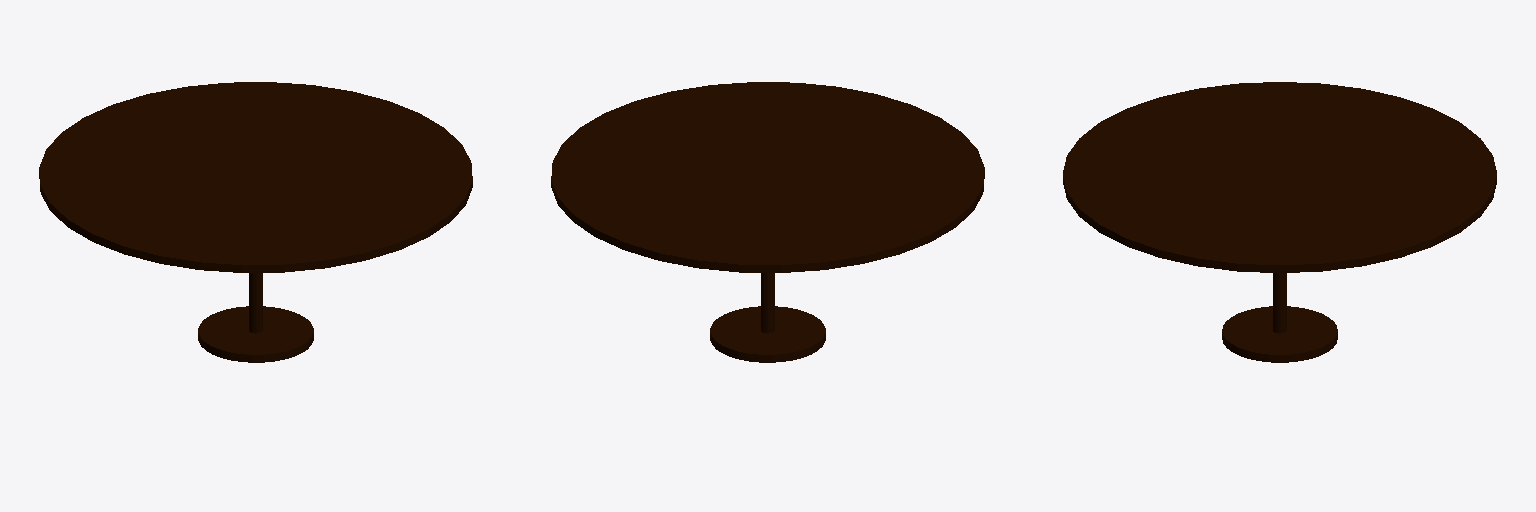
The model's file is roundTable.obj.
The picture shows the model from 3 angles: view 1: azimuth 30°, elevation 25°; view 2: azimuth 150°, elevation 25°; view 3: azimuth 270°, elevation 25°; orthographic projection.
Parts seen in each view (by area): view 1: Circle, Circle.001, Cylinder; view 2: Circle, Circle.001, Cylinder; view 3: Circle, Circle.001, Cylinder.
Boxes of the visible parts, <box> form: Circle: <box>39,82,472,272</box>; Circle.001: <box>198,306,313,362</box>; Cylinder: <box>249,273,262,333</box>; Circle: <box>551,82,984,272</box>; Circle.001: <box>710,306,825,362</box>; Cylinder: <box>761,273,774,333</box>; Circle: <box>1063,82,1496,272</box>; Circle.001: <box>1222,306,1337,362</box>; Cylinder: <box>1273,273,1286,333</box>.
Size of the model in its own units: 1.5 by 0.6275 by 1.5.